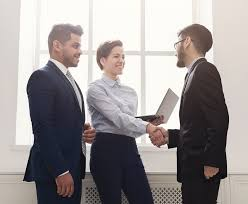F_M_suit jacket: (24, 60, 88, 184), (174, 63, 232, 181)
F_W_pants: (87, 128, 157, 204)
F_shirt: (85, 73, 157, 141)
